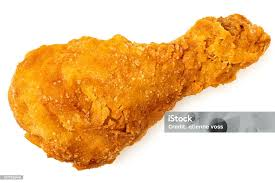Ayam goreng: (8, 14, 271, 172)
